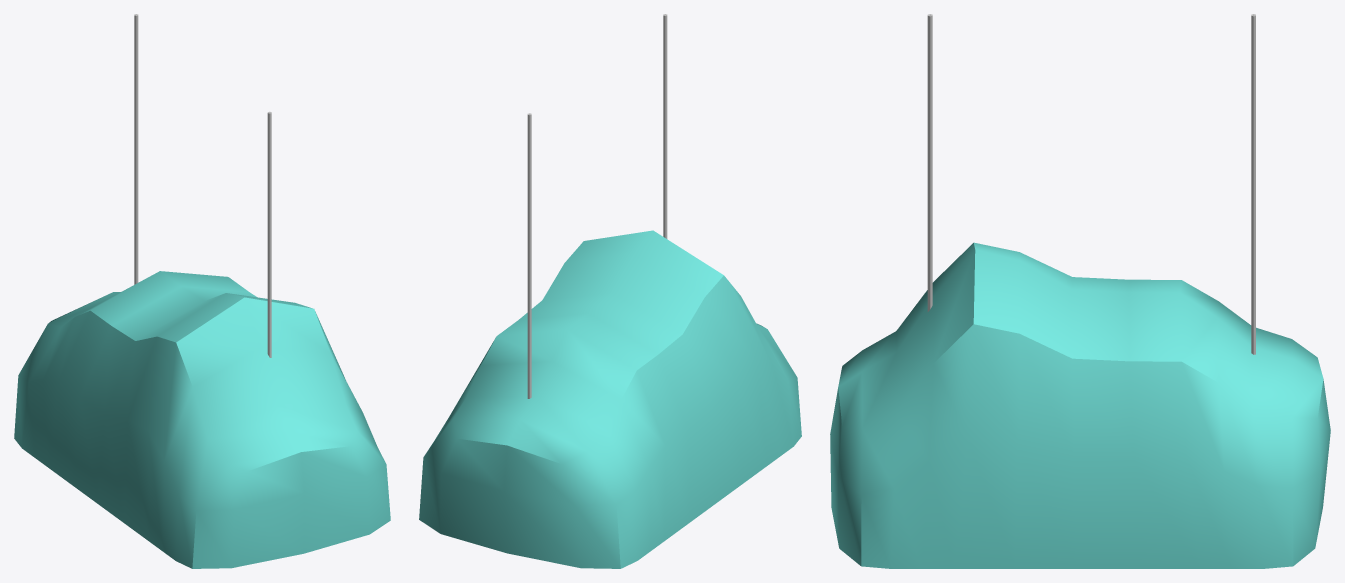
File: NuageAVECaccroche.fbx
The picture shows the model from 3 angles, left to right: view 1: azimuth 30°, elevation 25°; view 2: azimuth 150°, elevation 25°; view 3: azimuth 270°, elevation 25°; orthographic projection. The views are drawn at different scales.
Parts seen in each view (by area): view 1: Nuage Accroché; view 2: Nuage Accroché; view 3: Nuage Accroché.
Part boxes in pixels (bbox=[...]): Nuage Accroché: bbox=[14, 14, 390, 568]; Nuage Accroché: bbox=[419, 14, 801, 568]; Nuage Accroché: bbox=[830, 14, 1330, 568].
Bounding box in the file's own units: 1.93 × 3.65 × 3.33.
